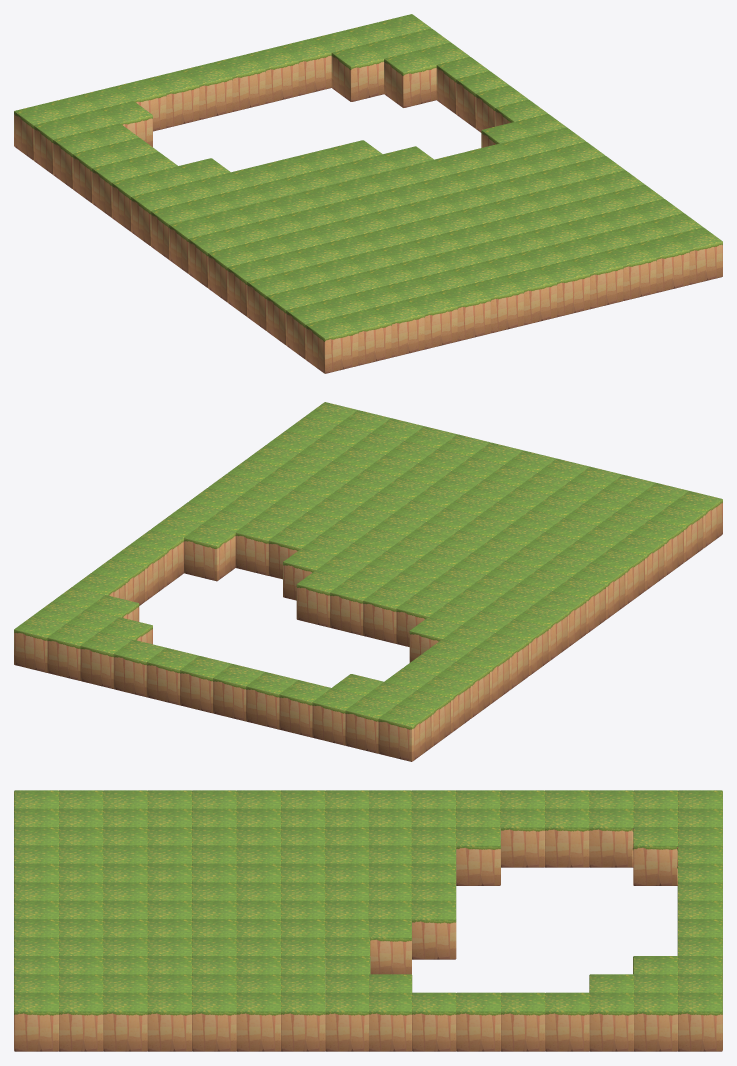
The model's file is ground model.fbx.
3 views of the same model, one above another, from view 1: azimuth 30°, elevation 25°; view 2: azimuth 150°, elevation 25°; view 3: azimuth 270°, elevation 25° (orthographic). The views are drawn at different scales.
Visible parts, largest first — view 1: Cube.001; view 2: Cube.001; view 3: Cube.001.
Boxes of the visible parts, box(x1,y1,x2,y2) form: Cube.001: box(14, 14, 722, 373); Cube.001: box(14, 402, 722, 761); Cube.001: box(14, 790, 722, 1051).
Bounding box in the file's own units: 2341 × 202 × 3166.
